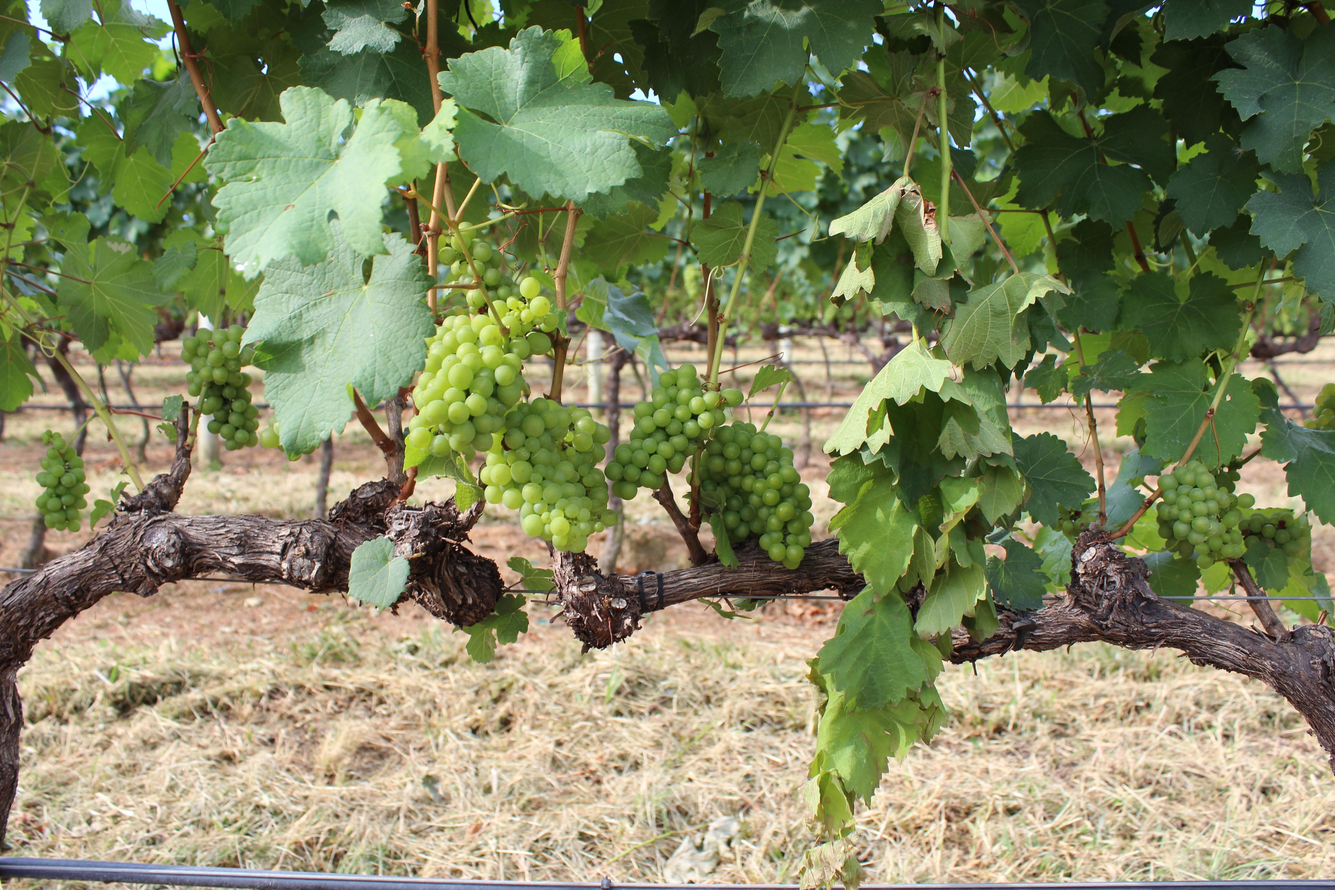leaf: (246, 222, 434, 455), (439, 27, 676, 200), (205, 88, 415, 277), (1013, 106, 1173, 226), (1213, 26, 1335, 173), (708, 0, 883, 96), (47, 215, 167, 354), (818, 587, 940, 709), (1247, 162, 1335, 302), (942, 273, 1069, 368), (1121, 272, 1241, 360), (830, 474, 917, 594), (1166, 133, 1259, 237), (1016, 0, 1108, 96), (1262, 410, 1335, 523), (1141, 359, 1220, 461), (1014, 432, 1095, 525), (1194, 374, 1260, 466), (915, 562, 987, 638), (461, 594, 528, 663), (323, 0, 407, 54), (348, 536, 410, 609), (986, 538, 1047, 610), (690, 201, 749, 268), (1163, 0, 1254, 40), (698, 140, 760, 196), (0, 335, 40, 411), (747, 364, 794, 399), (749, 213, 777, 269), (1234, 310, 1237, 318), (705, 12, 708, 14), (660, 239, 661, 240), (410, 112, 410, 113), (1333, 32, 1335, 32), (665, 242, 665, 243)
